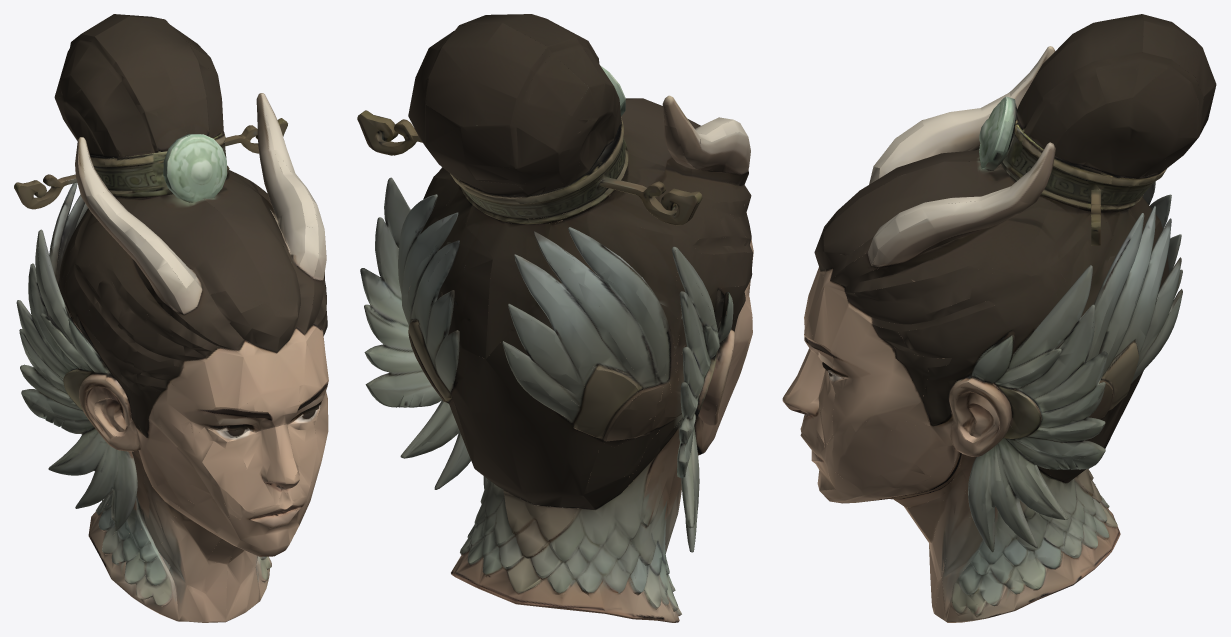
The model's file is renmian_game.glb.
3 views of the same model, side by side, from view 1: azimuth 30°, elevation 25°; view 2: azimuth 150°, elevation 25°; view 3: azimuth 270°, elevation 25° (orthographic). The views are drawn at different scales.
Visible parts, largest first — view 1: node_0; view 2: node_0; view 3: node_0.
Part boxes in pixels (x1=…): node_0: x1=14, y1=14, x2=328, y2=622; node_0: x1=357, y1=14, x2=753, y2=622; node_0: x1=782, y1=14, x2=1216, y2=622.
Size of the model in its own units: 0.5687 by 1.08 by 0.7221.
1 material, 1 textured.
